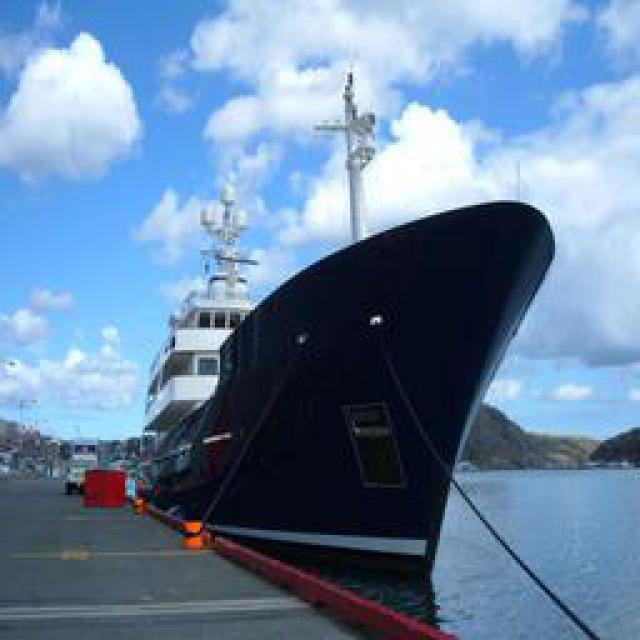Ship: (106, 55, 567, 591)
